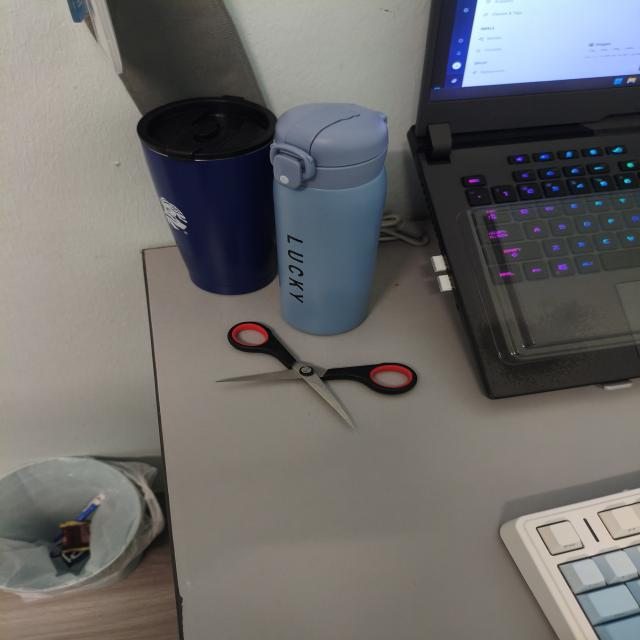scissor: (216, 321, 417, 428)
